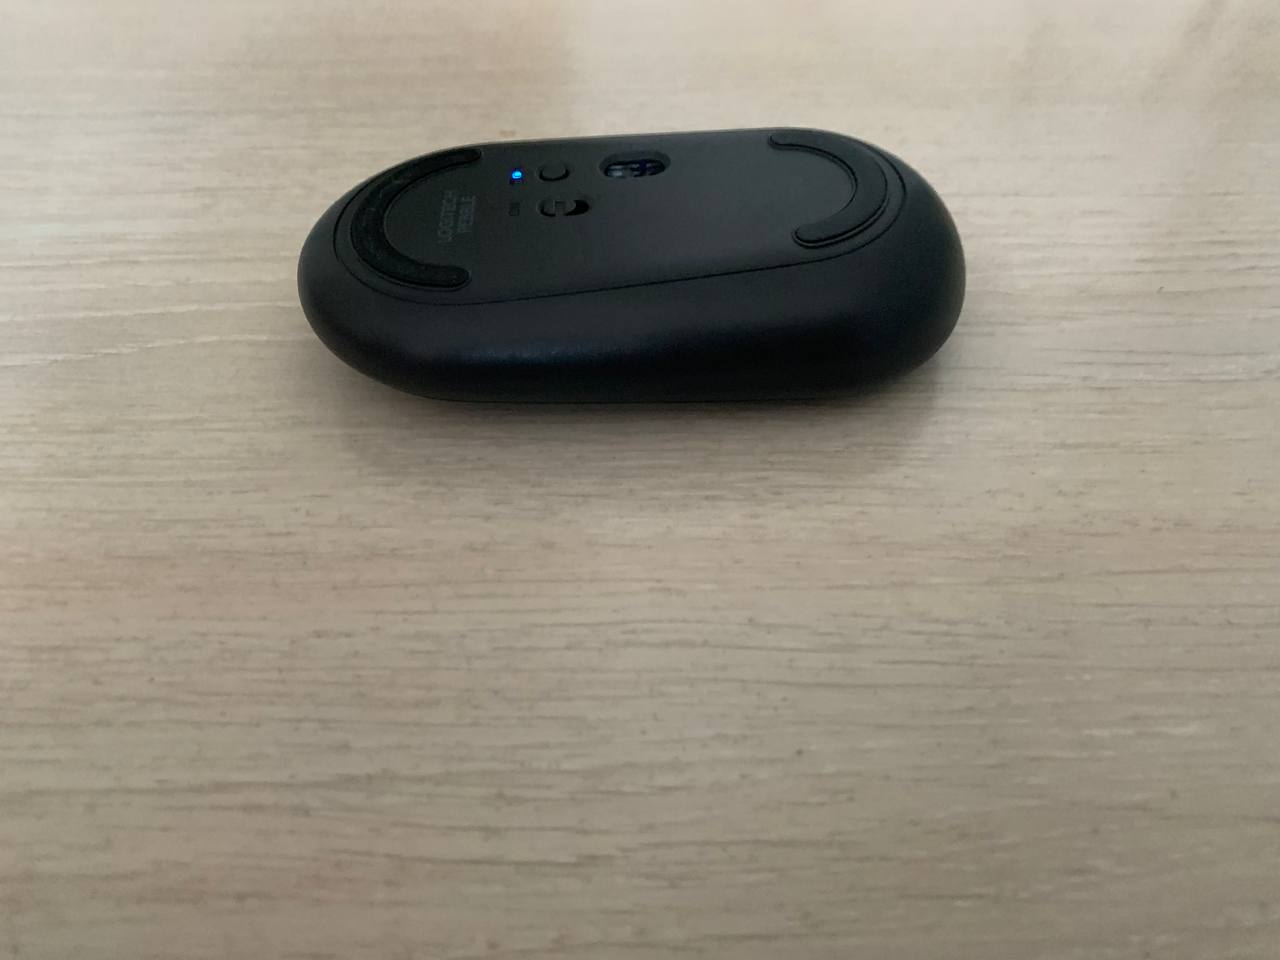mouse: (298, 129, 965, 402)
